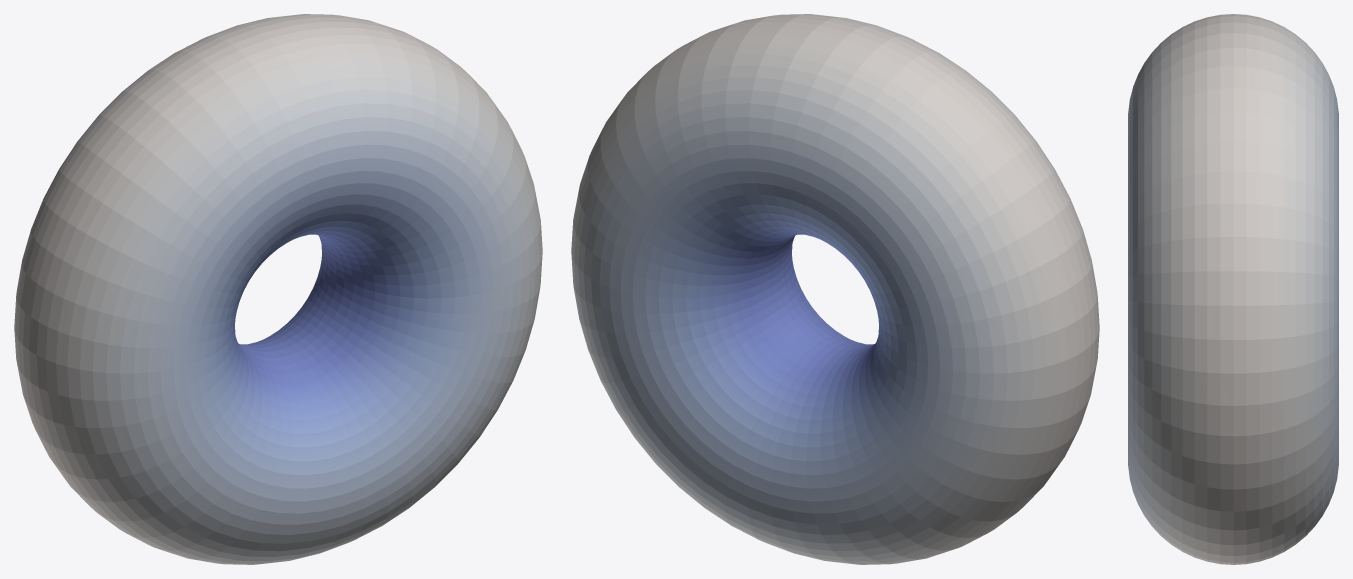
3 views of the same model, side by side, from view 1: azimuth 30°, elevation 25°; view 2: azimuth 150°, elevation 25°; view 3: azimuth 270°, elevation 25° (orthographic). The views are drawn at different scales.
Parts seen in each view (by area): view 1: world; view 2: world; view 3: world.
Boxes of the visible parts, left/top/right/bottom form: world: left=14, top=14, right=542, bottom=564; world: left=571, top=14, right=1099, bottom=564; world: left=1128, top=14, right=1338, bottom=564.
Bounding box in the file's own units: 20.53 × 20.49 × 7.85.
